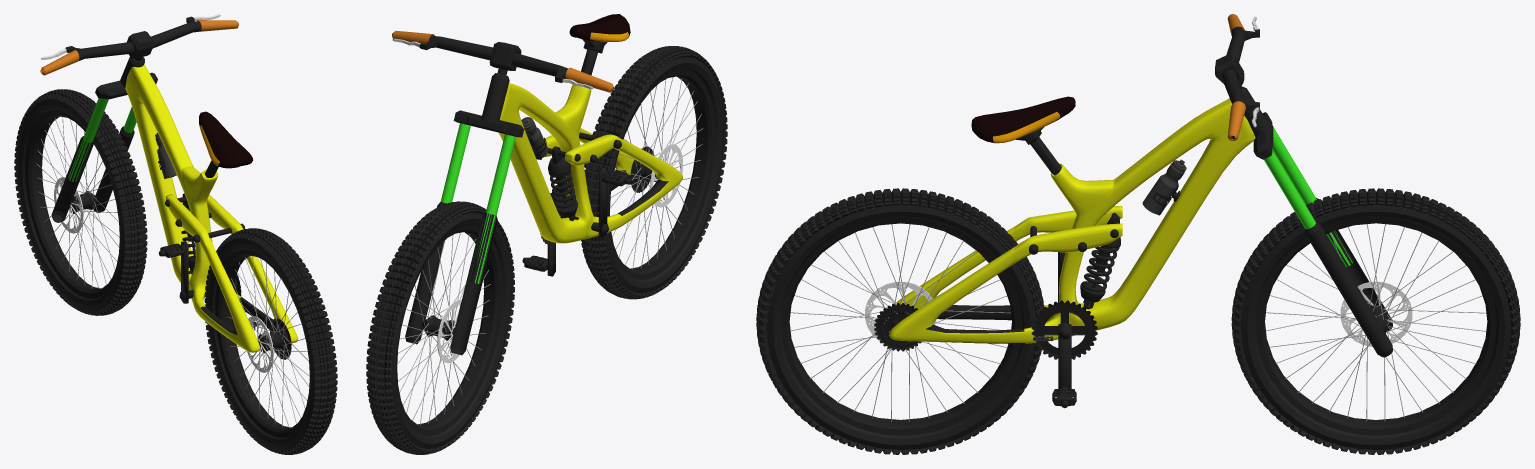
File: mountain_bike.glb
3 renders of one model, left to right at view 1: azimuth 30°, elevation 25°; view 2: azimuth 150°, elevation 25°; view 3: azimuth 270°, elevation 25°, orthographic. The views are drawn at different scales.
Visible parts, largest first — view 1: ban_depan, ban_belakang, rangka, stank, gear_depan; view 2: ban_depan, ban_belakang, rangka, stank, gear_depan; view 3: ban_depan, ban_belakang, rangka, stank, gear_depan.
Part boxes in pixels (x1,y1,x2,y2): ban_depan: (14, 89, 147, 315); ban_belakang: (204, 228, 337, 454); rangka: (125, 64, 298, 352); stank: (40, 14, 238, 222); gear_depan: (159, 241, 256, 327); ban_depan: (366, 201, 514, 454); ban_belakang: (581, 46, 727, 299); rangka: (499, 14, 682, 243); stank: (392, 30, 613, 355); gear_depan: (522, 167, 631, 276); ban_depan: (1231, 188, 1520, 454); ban_belakang: (756, 188, 1044, 454); rangka: (889, 96, 1255, 343); stank: (1215, 14, 1392, 357); gear_depan: (1031, 252, 1097, 408).
Bounding box in the file's own units: 4.78 × 7.35 × 12.85.
